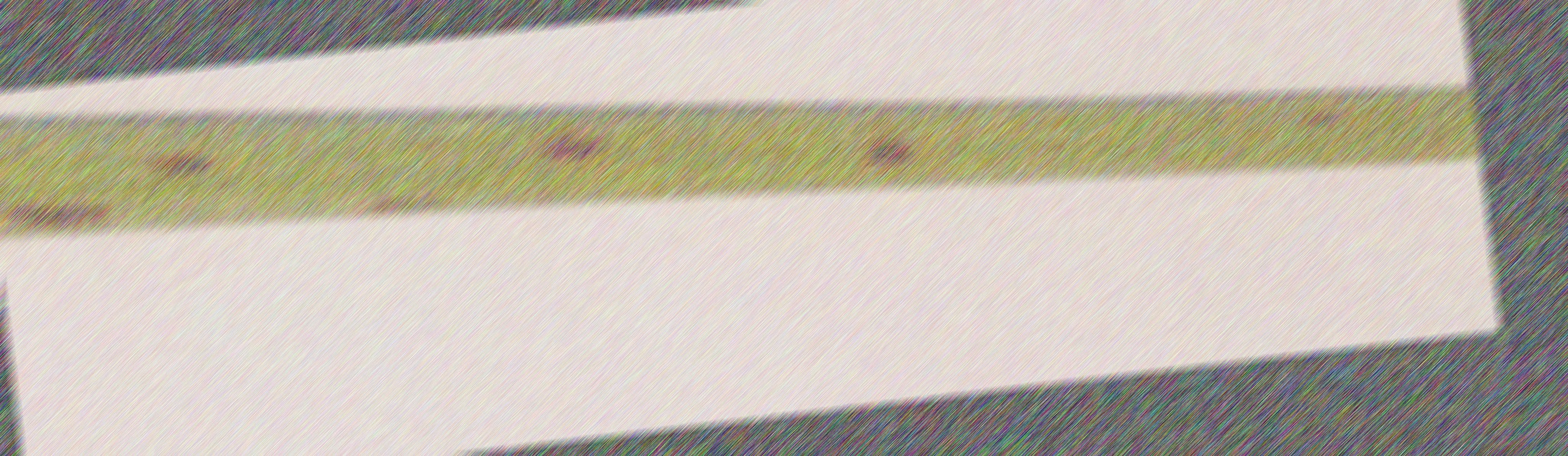Bacterial_Leaf_Blight: (523, 109, 603, 168), (849, 124, 923, 187), (0, 196, 112, 237), (346, 178, 443, 223), (118, 142, 225, 181), (1301, 87, 1346, 132)
